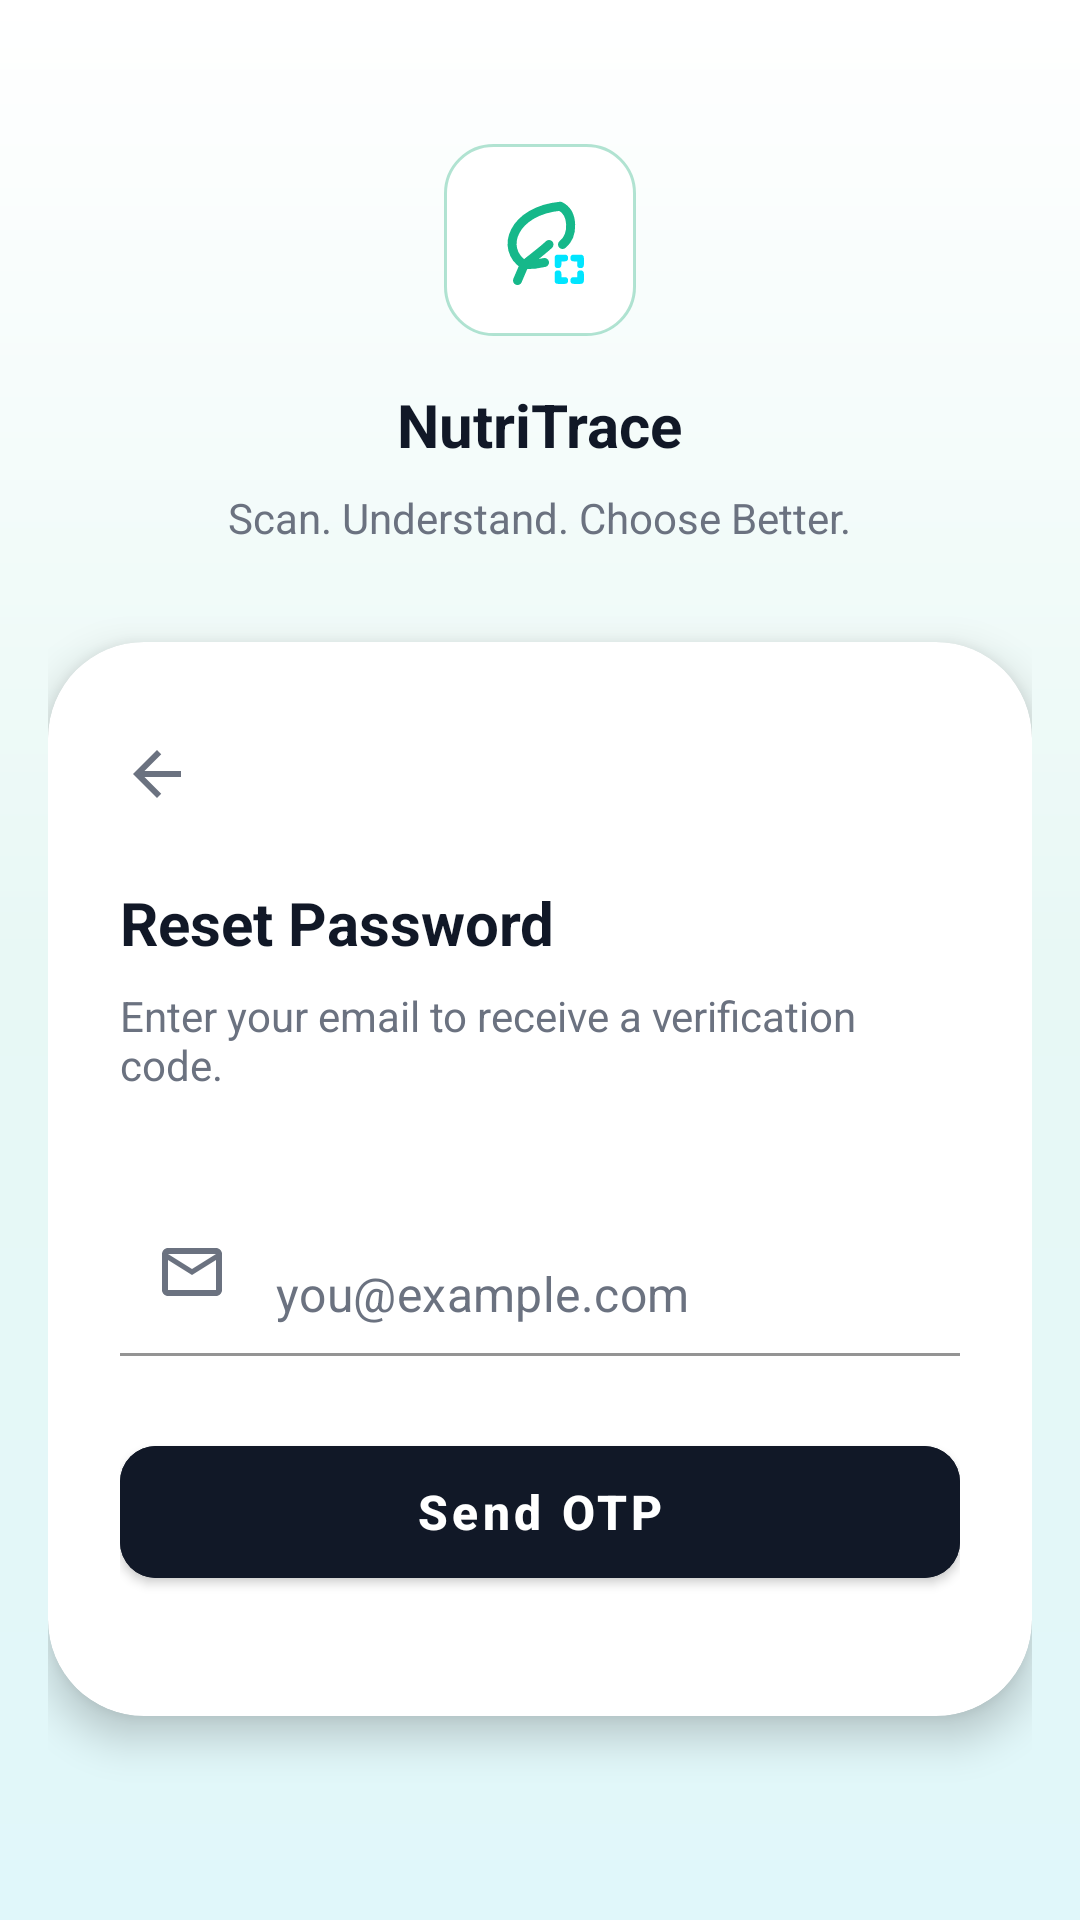

Icons on this 1080 × 1920 Android screen, each with its box as (x1, y1, x2, y2):
arrow back: (133, 750, 181, 798)
eco: (507, 201, 584, 285)
